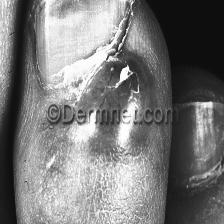Toxin: (90, 57, 153, 107), (78, 130, 158, 155), (39, 0, 95, 24)
